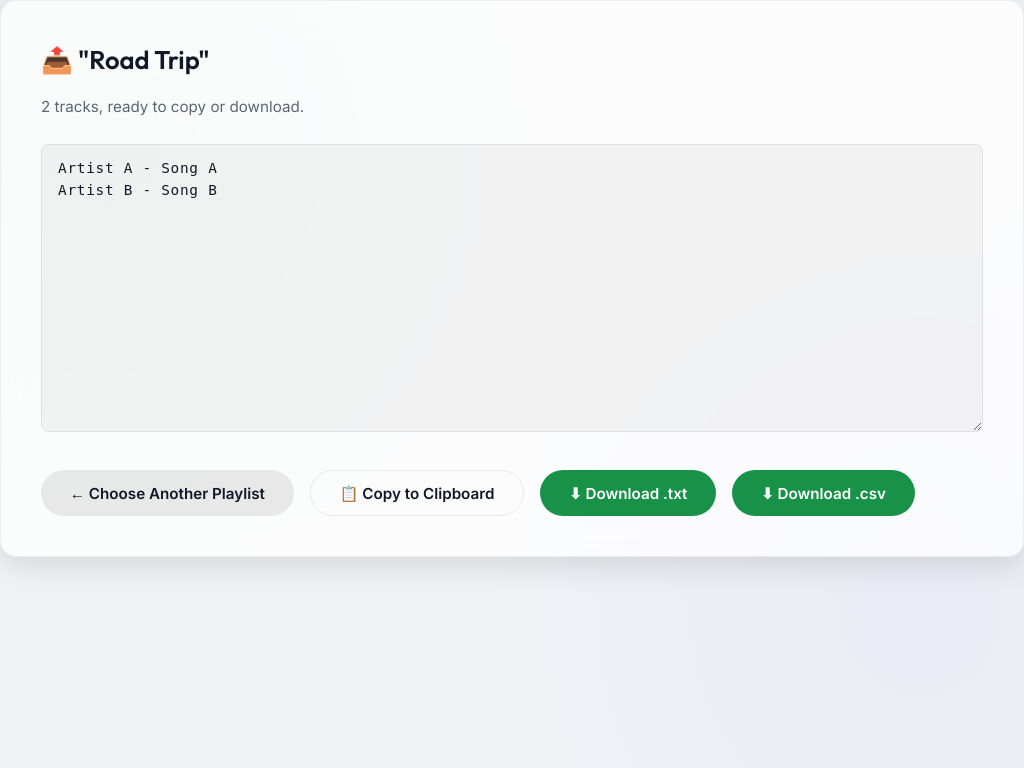
ExportView › falls back to select-for-manual-copy when the Clipboard API rejects
Click the button "📋 Copy to Clipboard".
click(417, 493)  # box [310, 470, 524, 516]
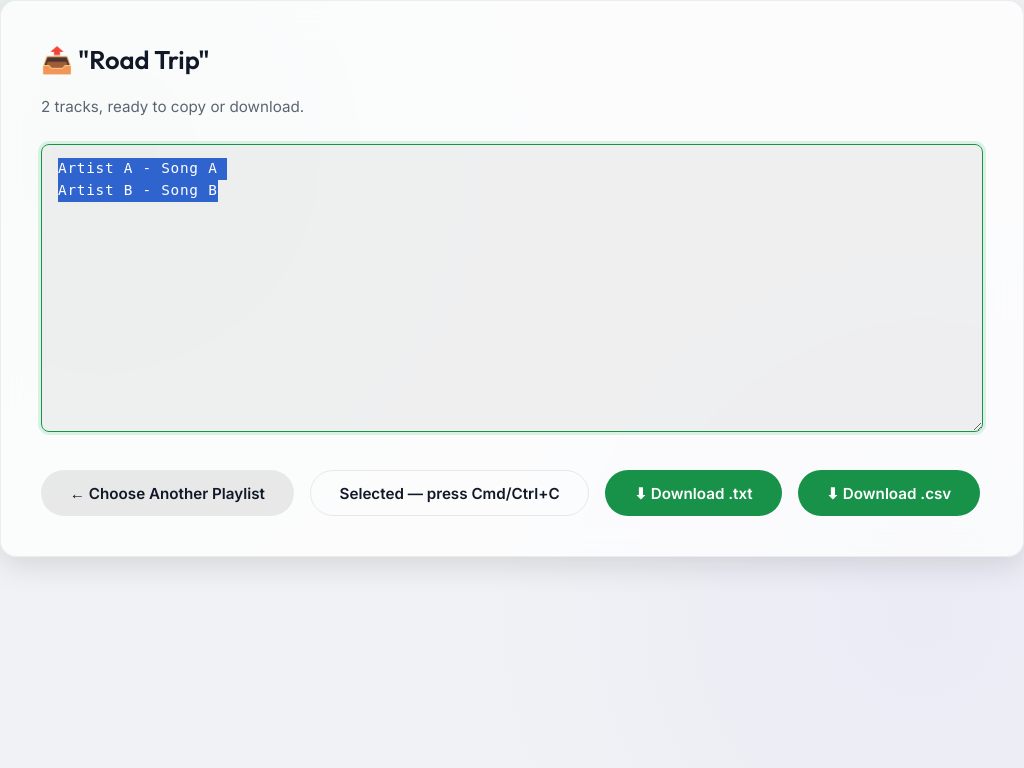
Check: the button "Selected — press Cmd/Ctrl+C" is shown, box [310, 470, 590, 516]
